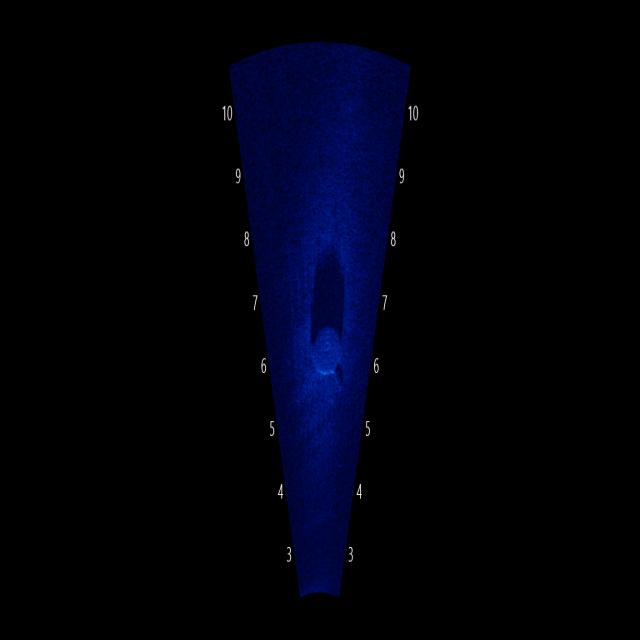circle: (310, 303, 345, 388)
